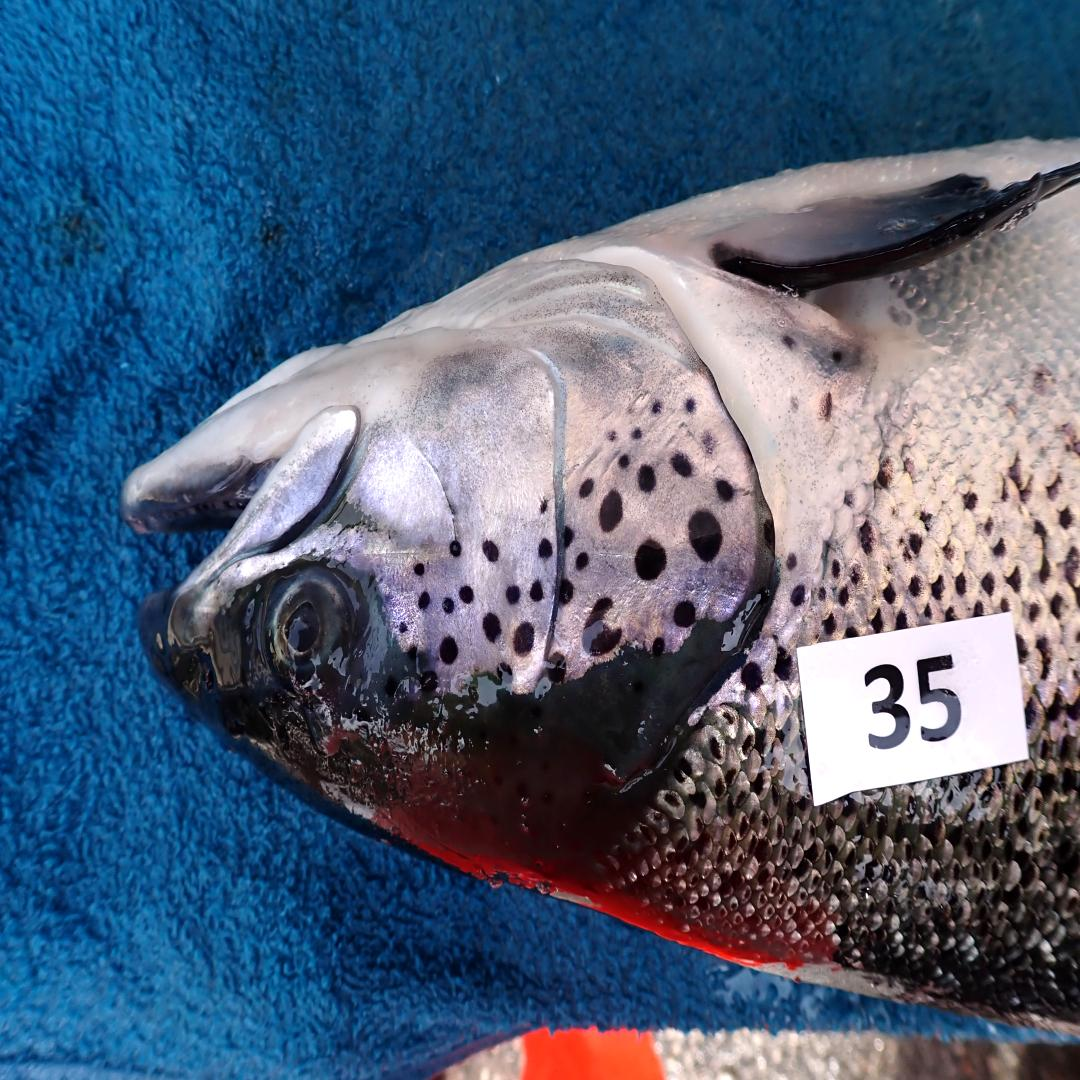roi: (359, 246, 763, 691)
